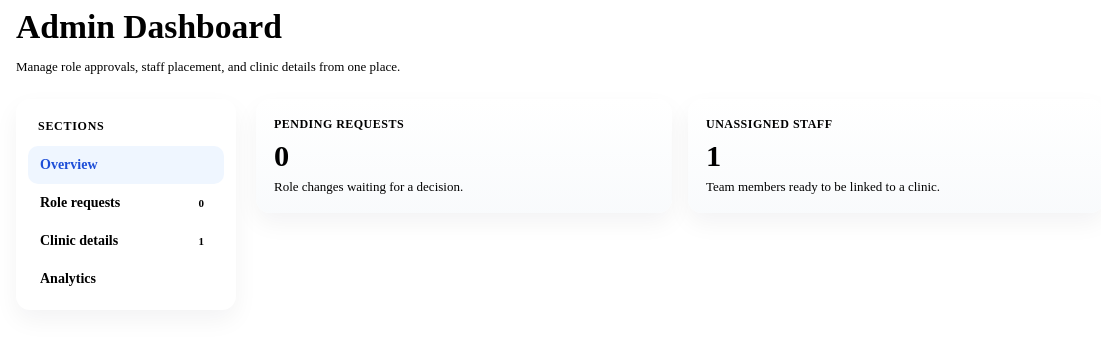
Test case: AdminDashboard › shows role request loading error
Click the button "Role requests 0".
click(126, 203)  # box [28,184,224,222]
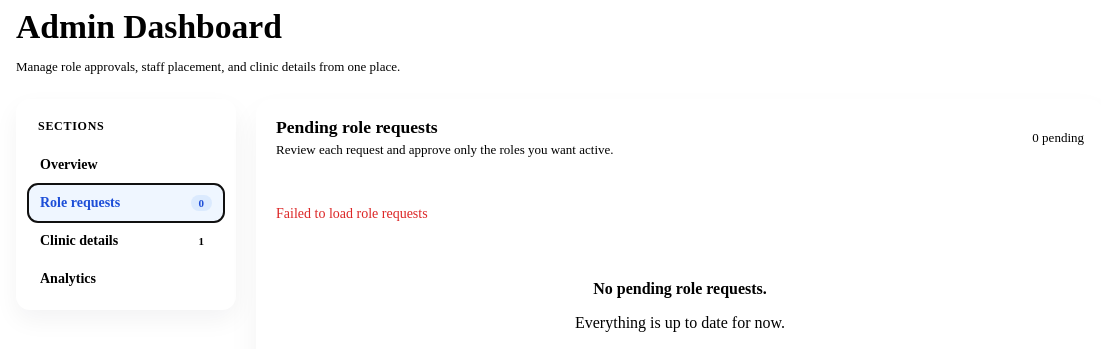
Expected: the text "Failed to load role requests" is shown, [276,206,428,221]
